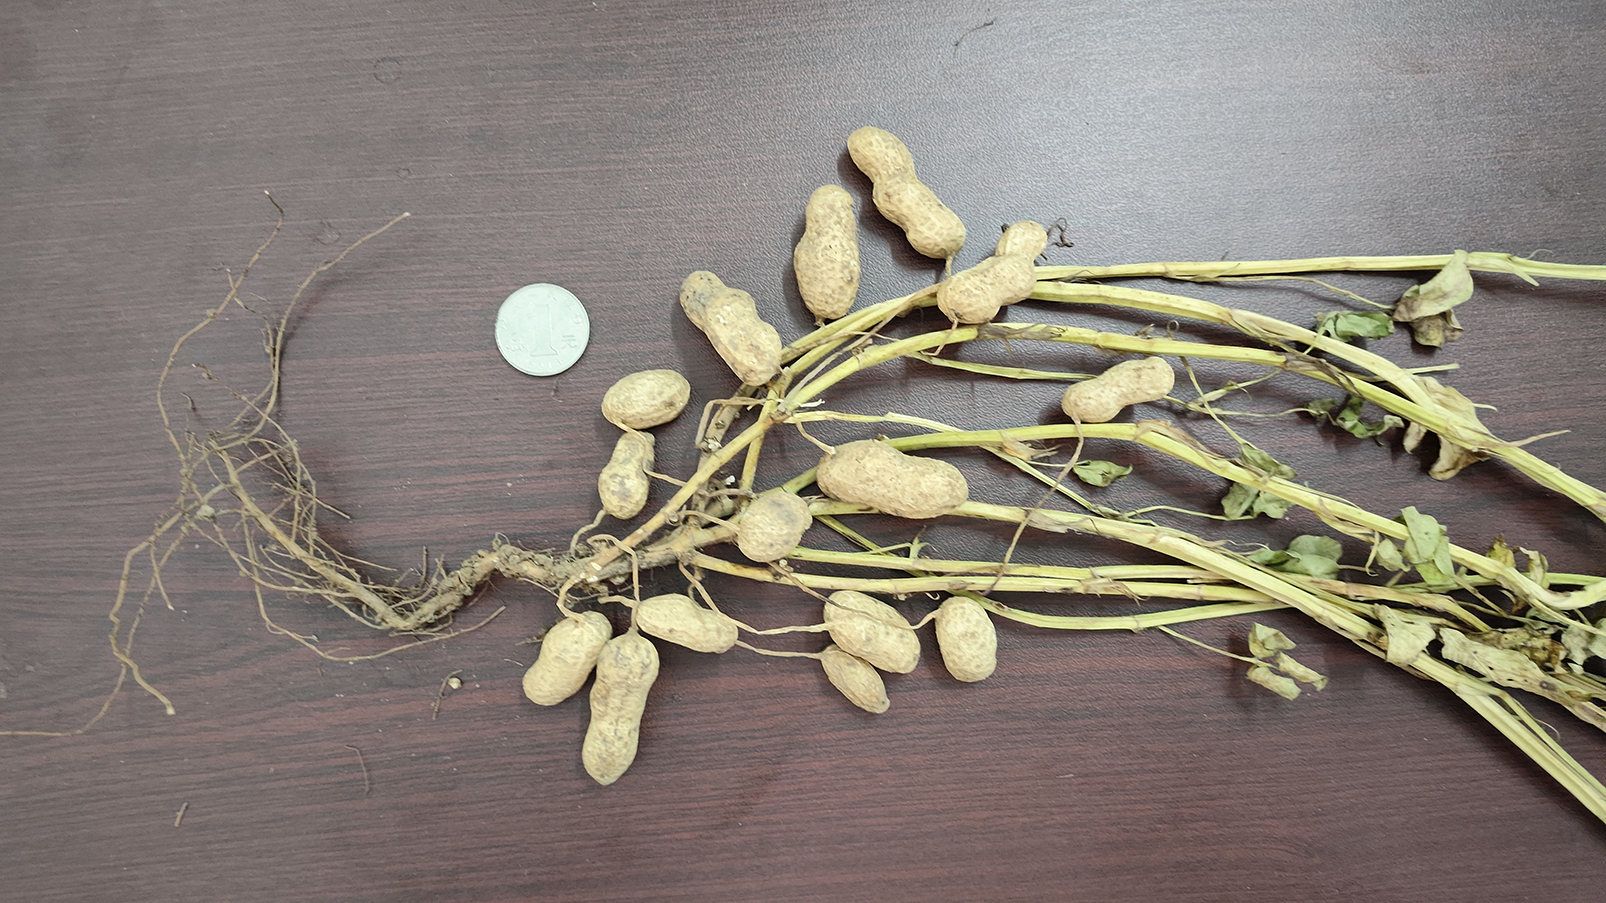h: (845, 125, 968, 258), (815, 438, 970, 520), (676, 268, 782, 385), (582, 633, 659, 789), (936, 217, 1048, 324), (793, 182, 861, 316), (521, 608, 613, 707), (1059, 351, 1177, 422), (822, 589, 919, 671), (638, 591, 739, 653), (596, 430, 659, 518), (936, 593, 999, 680), (601, 368, 690, 429), (739, 487, 812, 560), (820, 646, 889, 712)
